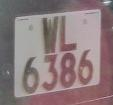3: (40, 52, 61, 94)
6: (19, 52, 43, 97), (77, 47, 96, 89)
8: (58, 49, 79, 91)
L: (56, 10, 82, 56)
W: (39, 12, 60, 56)
